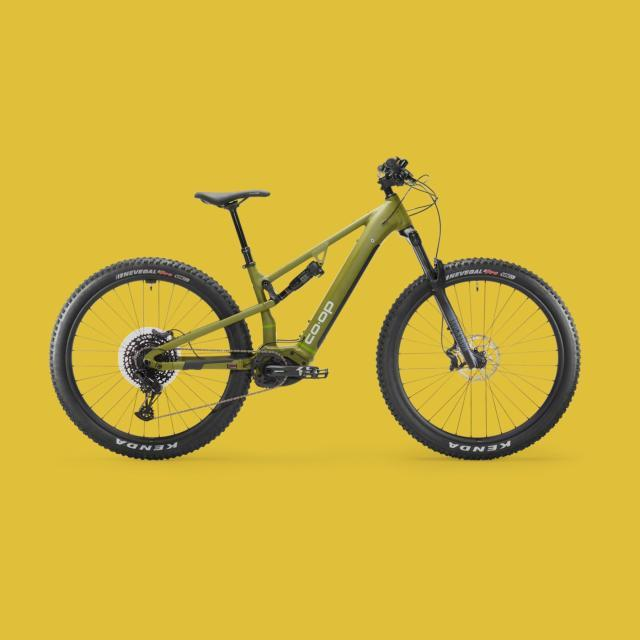bike: (49, 155, 582, 462)
